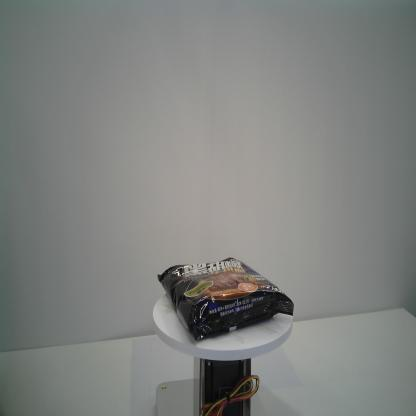Instant Noodles: (156, 255, 296, 341)
